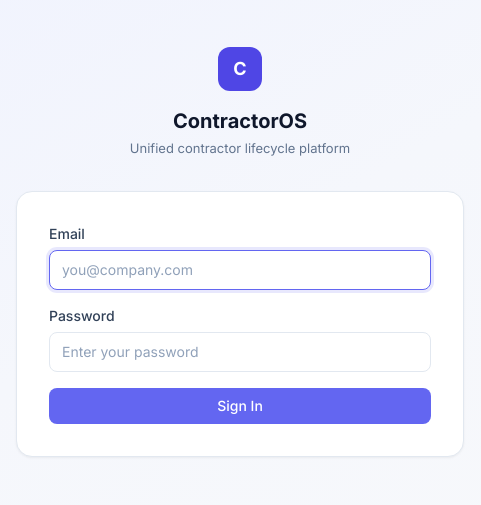
Scenario: Authentication › shows error for invalid credentials
The width and height of the screenshot is (481, 505).
Type "wrong@example.com" into the field named "email". click: (240, 270)
box: [49,250,431,290]
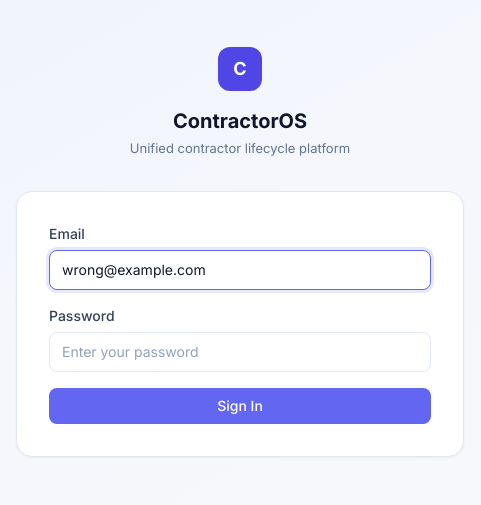
Type "WrongPassword1" into the password field named "password". click: (240, 352)
box: [49,332,431,372]
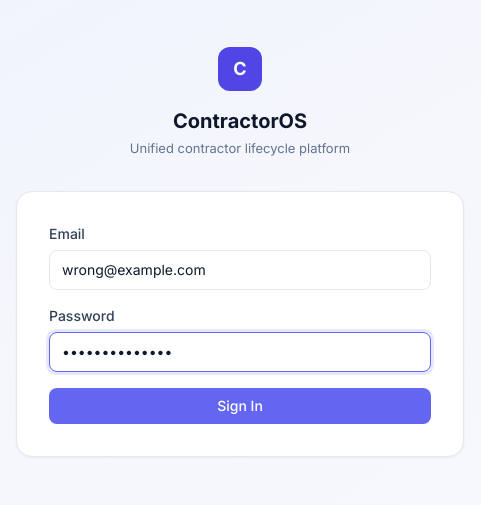
Click the submit button. click: (240, 406)
box: [49,388,431,424]
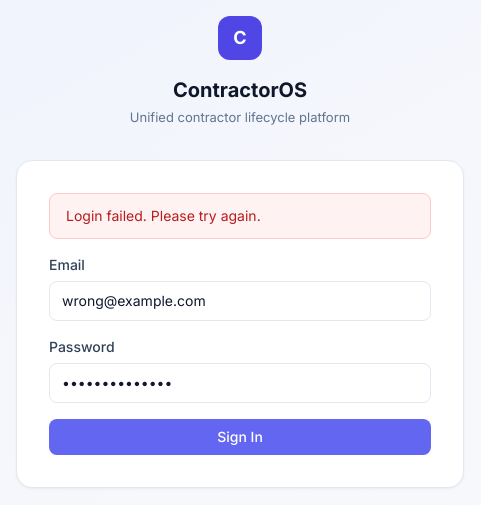
Expected: the text "Login failed. Please try again." is shown, [66,207,261,224]
